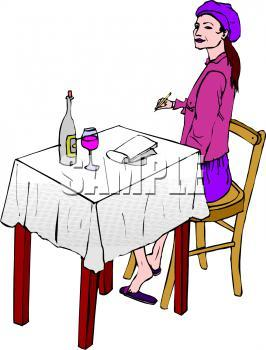chair: (120, 118, 264, 306)
diningtable: (7, 125, 208, 349)
person: (122, 1, 243, 298)
